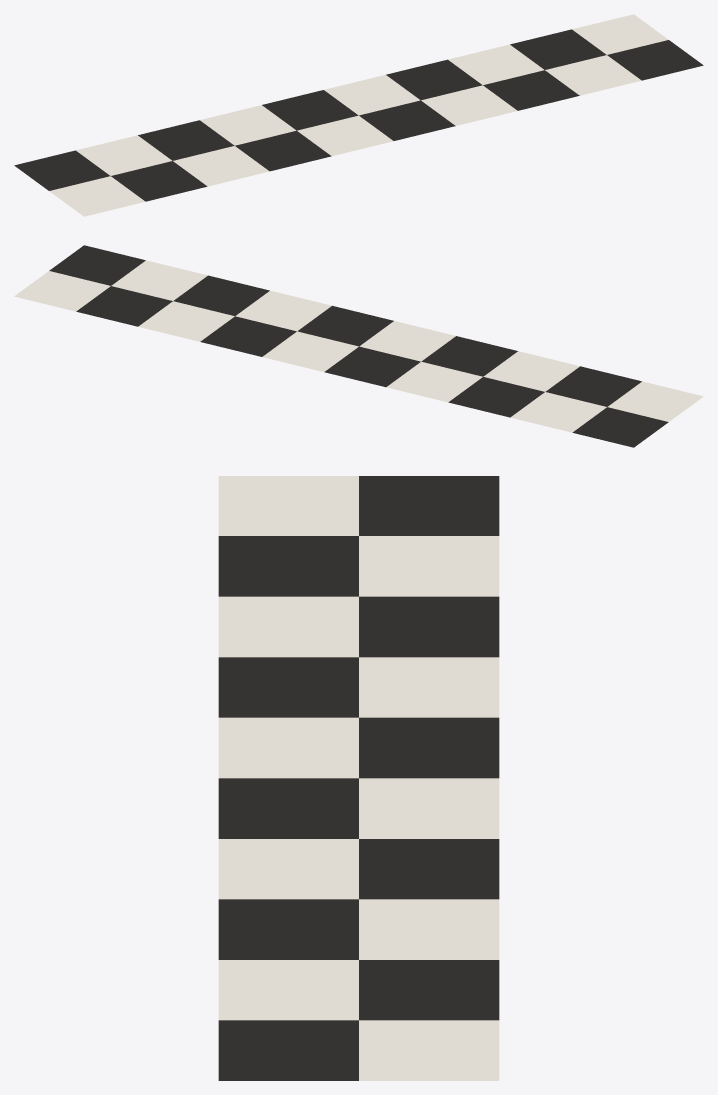
File: Finish_Line.fbx
The picture shows the model from 3 angles, top to bottom: view 1: azimuth 30°, elevation 25°; view 2: azimuth 150°, elevation 25°; view 3: azimuth 270°, elevation 25°; orthographic projection. The views are drawn at different scales.
Visible parts, largest first — view 1: finish_line; view 2: finish_line; view 3: finish_line.
Boxes of the visible parts, <box> form: finish_line: <box>14,14,703,216</box>; finish_line: <box>14,245,703,447</box>; finish_line: <box>218,476,499,1080</box>.
Size of the model in its own units: 800 by 1.91e-06 by 157.
